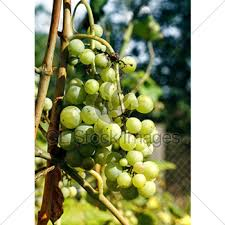grapes: (66, 42, 155, 195)
